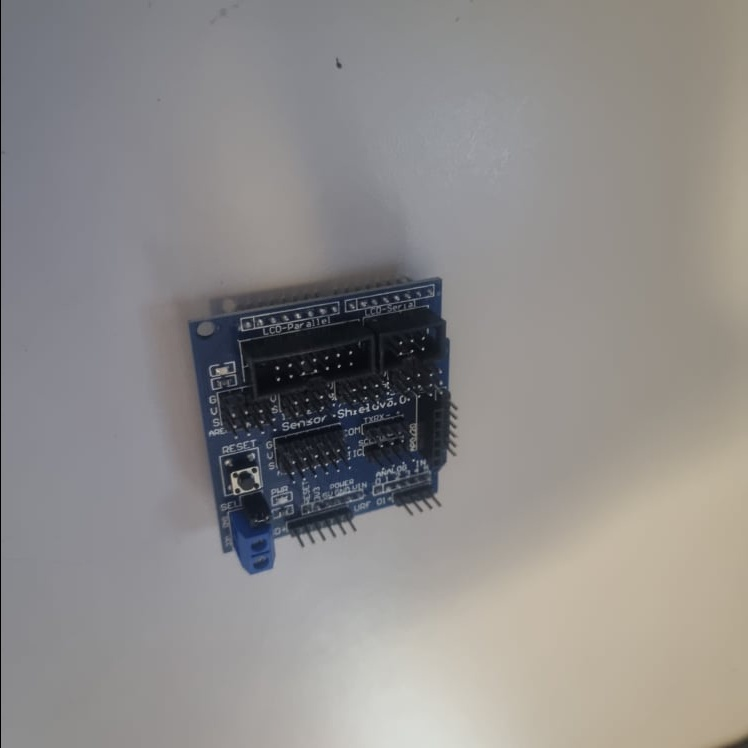5V EXPANSION: (187, 273, 457, 580)
